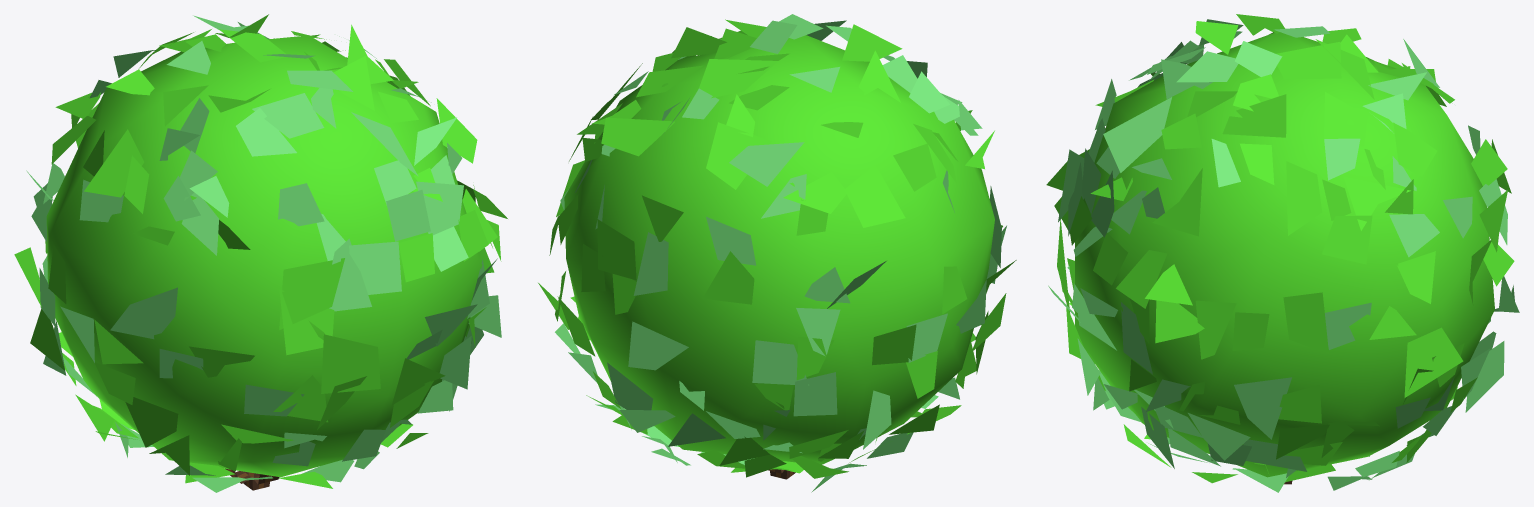
Rendered from bush.fbx.
The picture shows the model from 3 angles, left to right: view 1: azimuth 30°, elevation 25°; view 2: azimuth 150°, elevation 25°; view 3: azimuth 270°, elevation 25°; orthographic projection. The views are drawn at different scales.
Parts seen in each view (by area): view 1: Cube.001; view 2: Cube.001; view 3: Cube.001.
Part boxes in pixels (<box>): Cube.001: <box>14,14,507,492</box>; Cube.001: <box>538,14,1016,492</box>; Cube.001: <box>1046,14,1519,492</box>.
Size of the model in its own units: 182 by 190 by 184.
